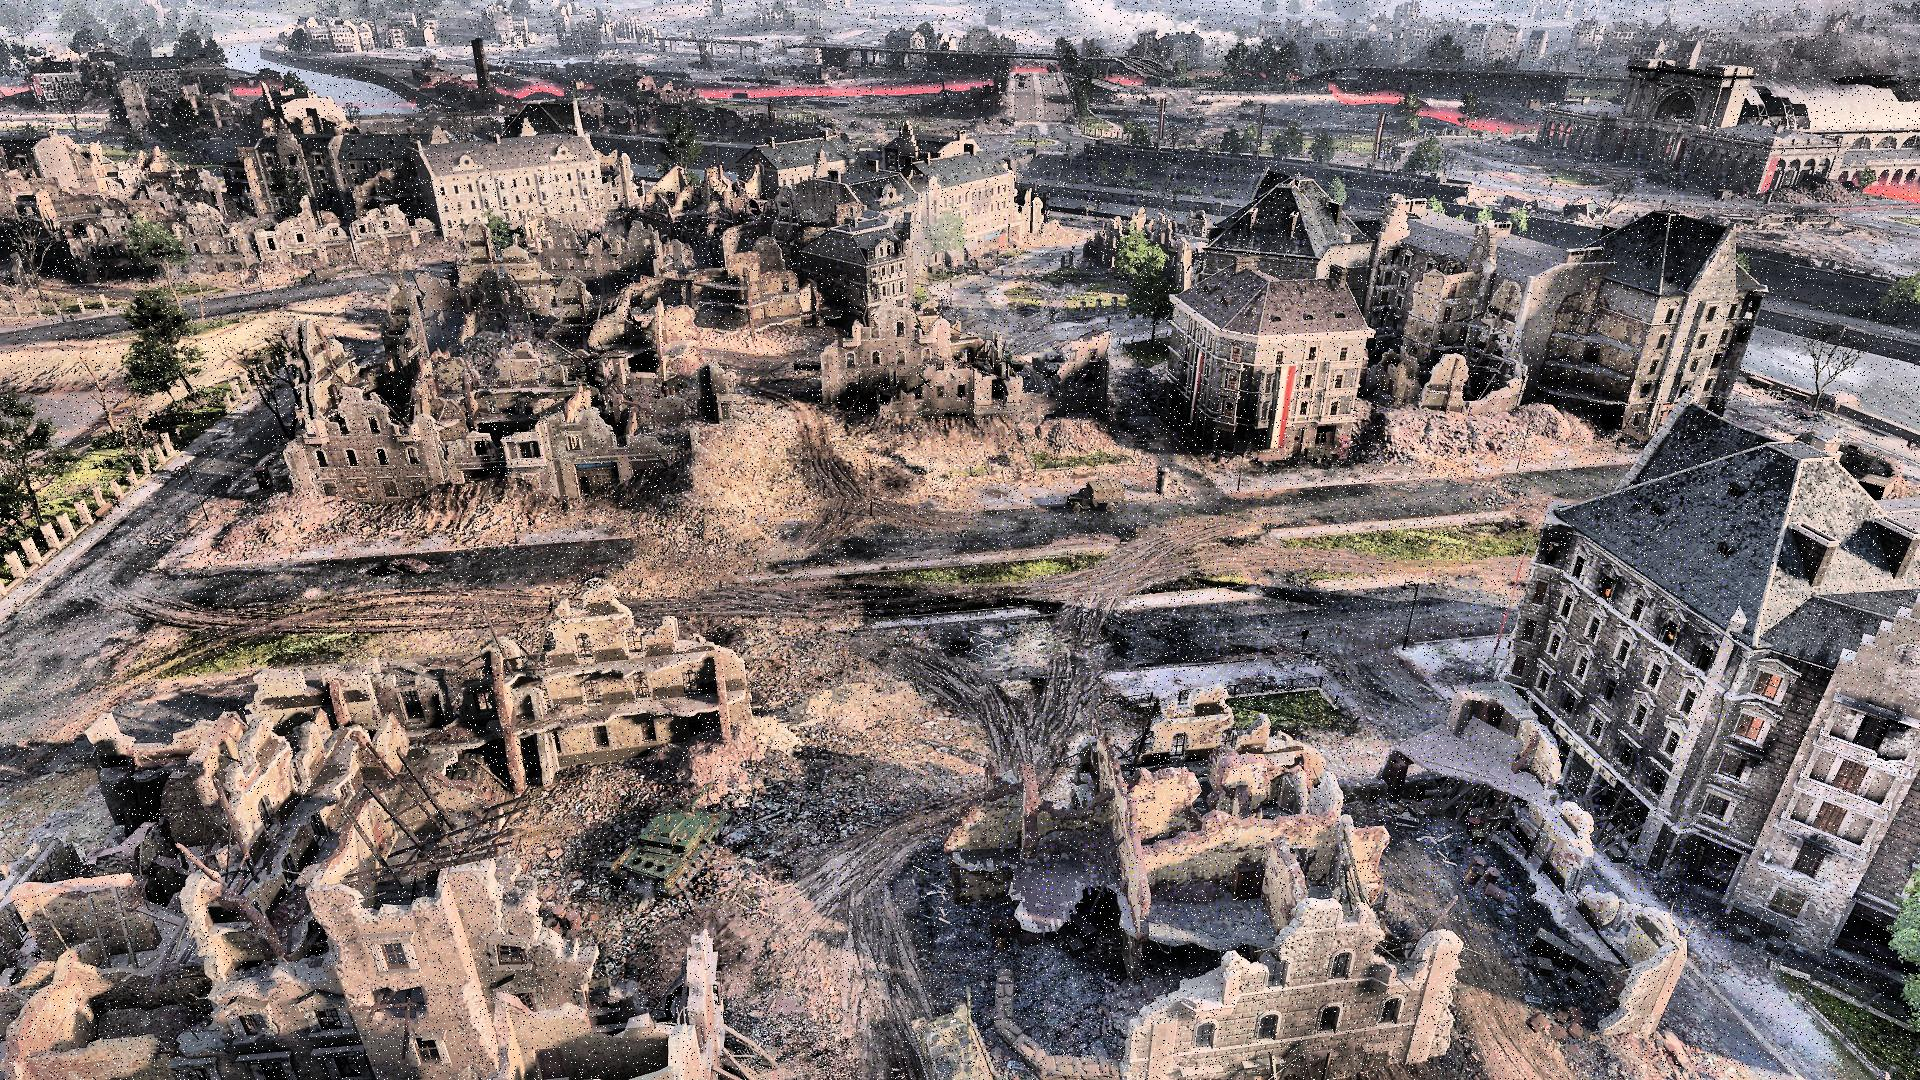military-vehicle: (612, 783, 727, 901), (1065, 480, 1126, 514)
